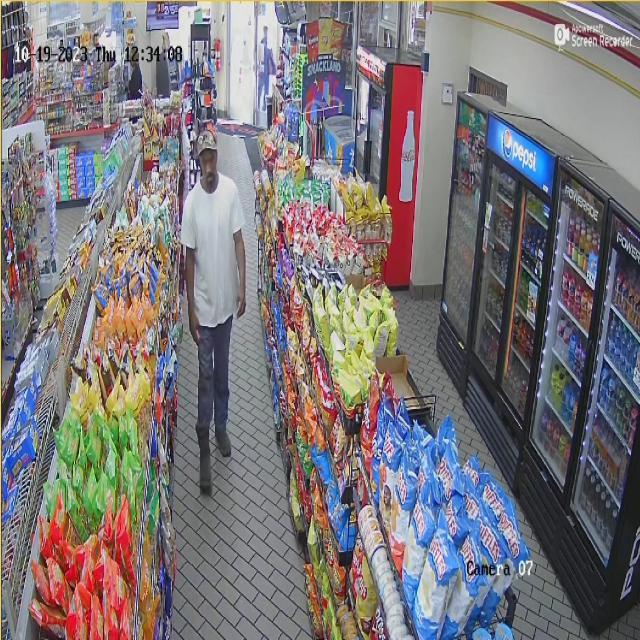Normal: (181, 123, 250, 502)
